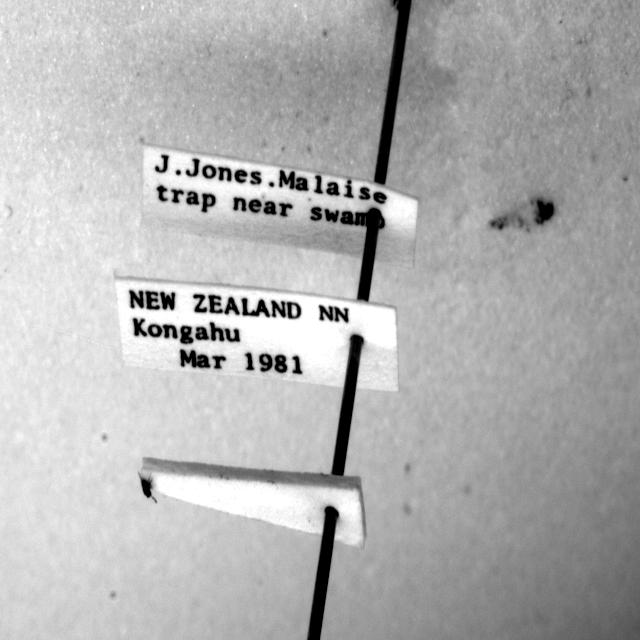typed_label: (142, 144, 418, 266), (115, 278, 399, 392)
